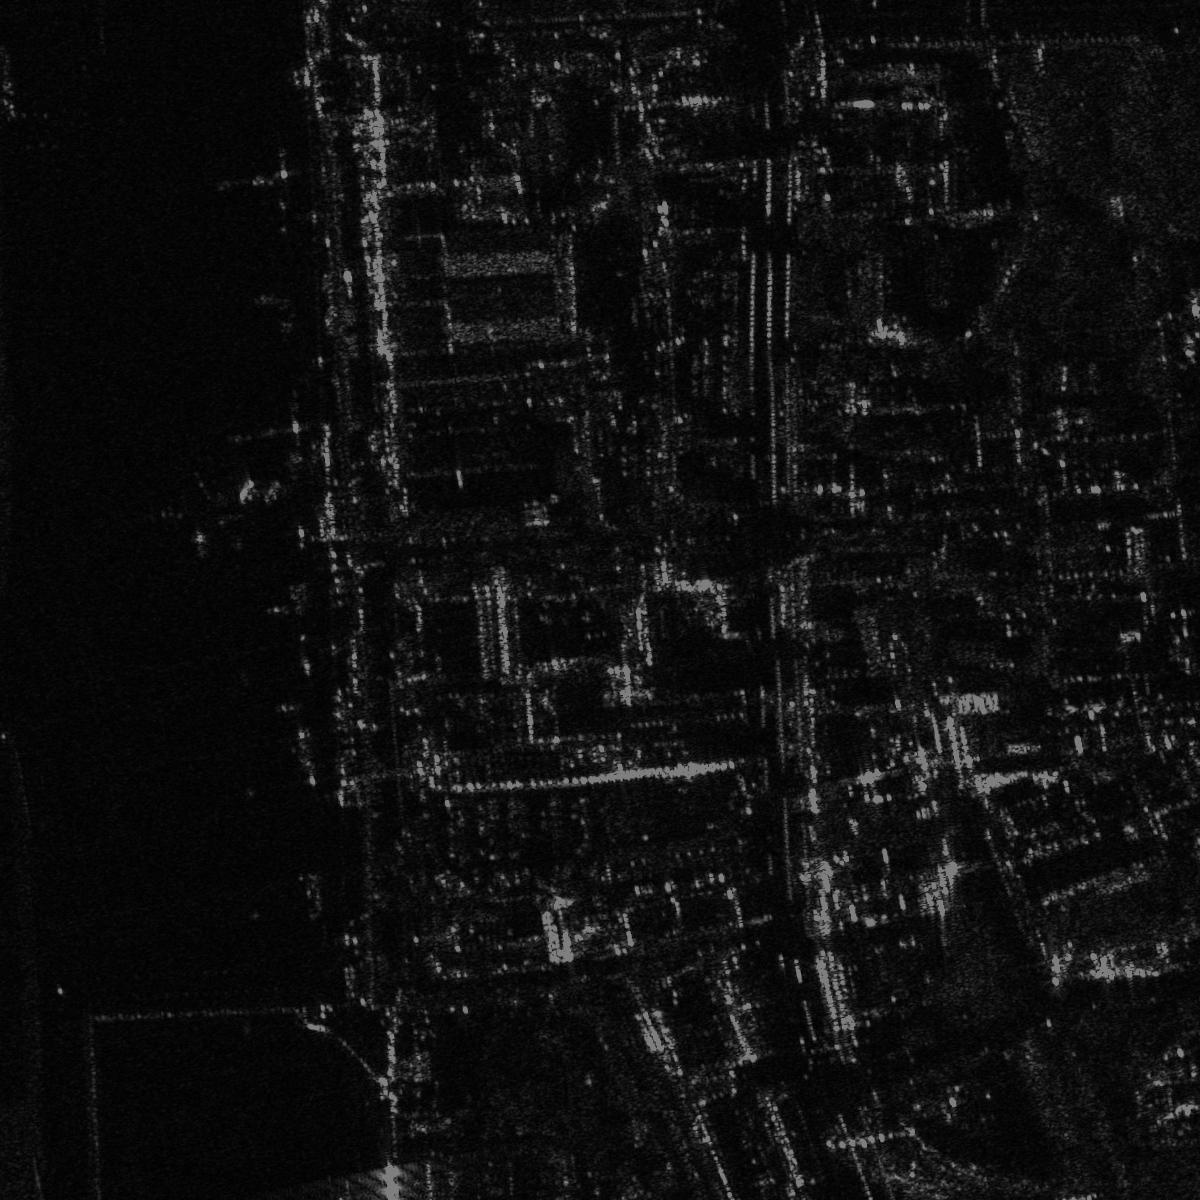A320/321: (229, 391, 318, 458)
other: (211, 134, 313, 231), (149, 473, 249, 554)
